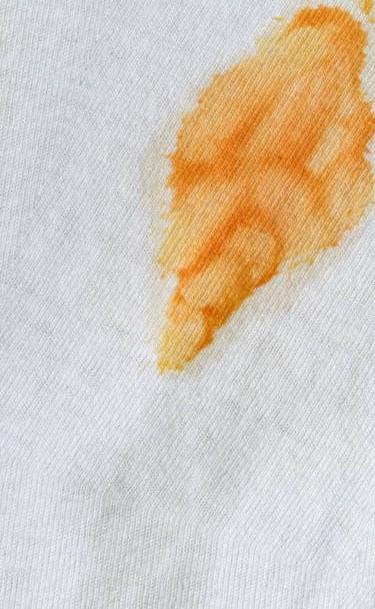stain: (155, 2, 371, 384)
